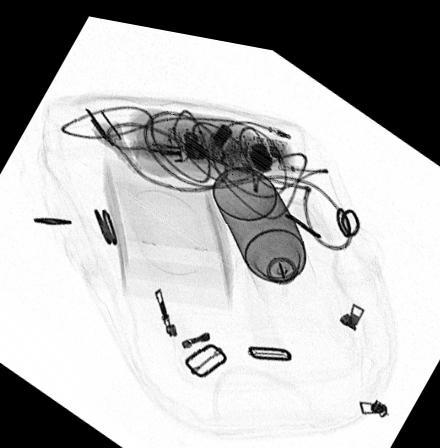Sprayer: (210, 155, 317, 290)
